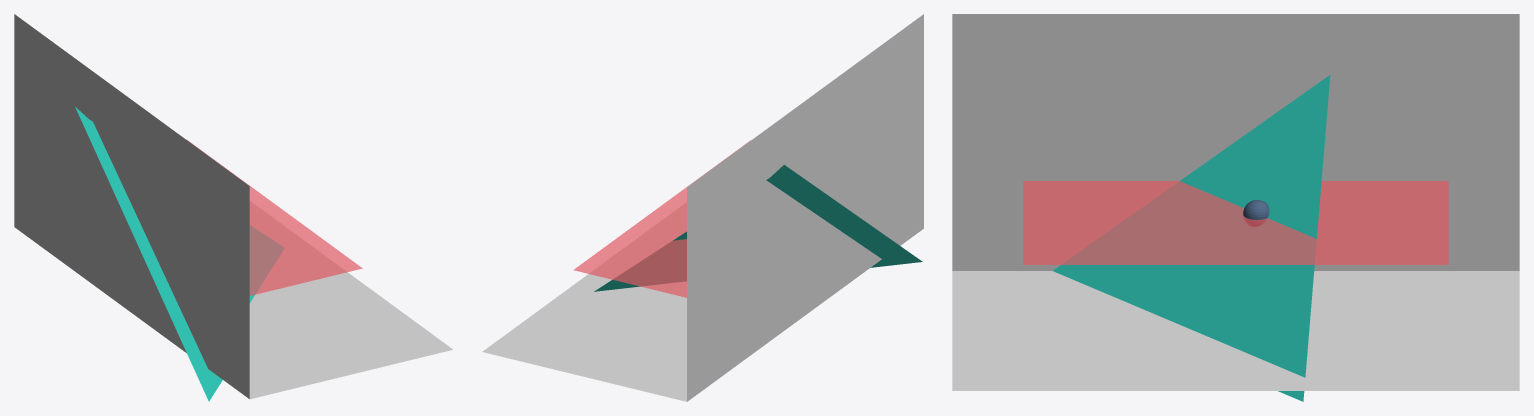
File: point_contained_in_a_plane.gltf
The picture shows the model from 3 angles, left to right: view 1: azimuth 30°, elevation 25°; view 2: azimuth 150°, elevation 25°; view 3: azimuth 270°, elevation 25°; orthographic projection. The views are drawn at different scales.
Visible parts, largest first — view 1: vertical_plane, horizontal_plane, another_horizontal_plane, alpha; view 2: vertical_plane, horizontal_plane, another_horizontal_plane, alpha; view 3: vertical_plane, horizontal_plane, alpha, another_horizontal_plane, point.
Part boxes in pixels (x1,y1,x2,y2): vertical_plane: (14,14,249,398); horizontal_plane: (249,201,452,399); another_horizontal_plane: (186,139,362,295); alpha: (75,106,284,401); vertical_plane: (687,14,923,401); horizontal_plane: (482,202,686,401); another_horizontal_plane: (573,140,750,297); alpha: (594,165,922,291); vertical_plane: (952,14,1519,270); horizontal_plane: (952,271,1519,390); alpha: (1053,75,1330,401); another_horizontal_plane: (1023,181,1448,264); point: (1243,200,1269,226).
Size of the model in its own units: 2.2 by 2.12 by 4.
